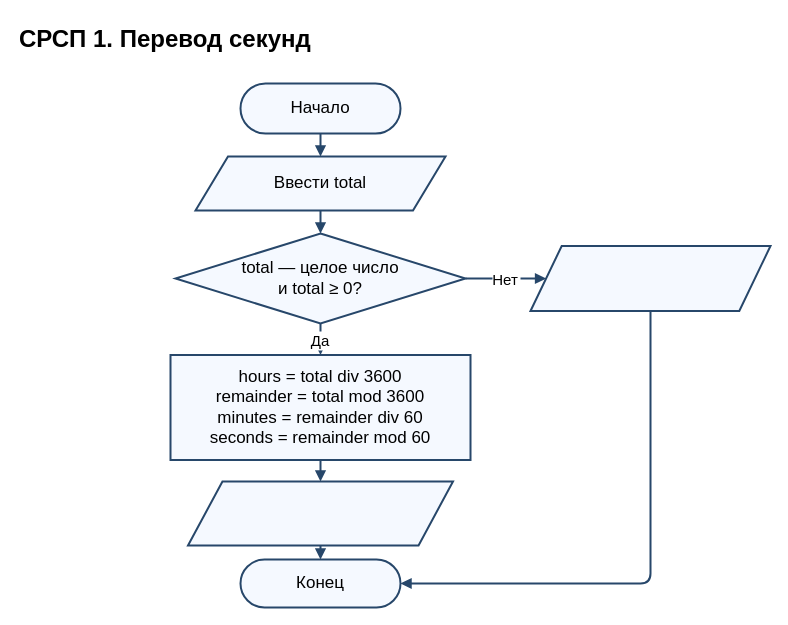
The diagram is 788 pixels wide and 625 high, and some of its shapes have lost their labels. Here are the shapes that lost their labels. From the top down, the box of each, then its label:
(529, 244, 771, 312): Вывести сообщение об ошибке
(186, 480, 454, 546): Вывести hours, minutes, seconds
